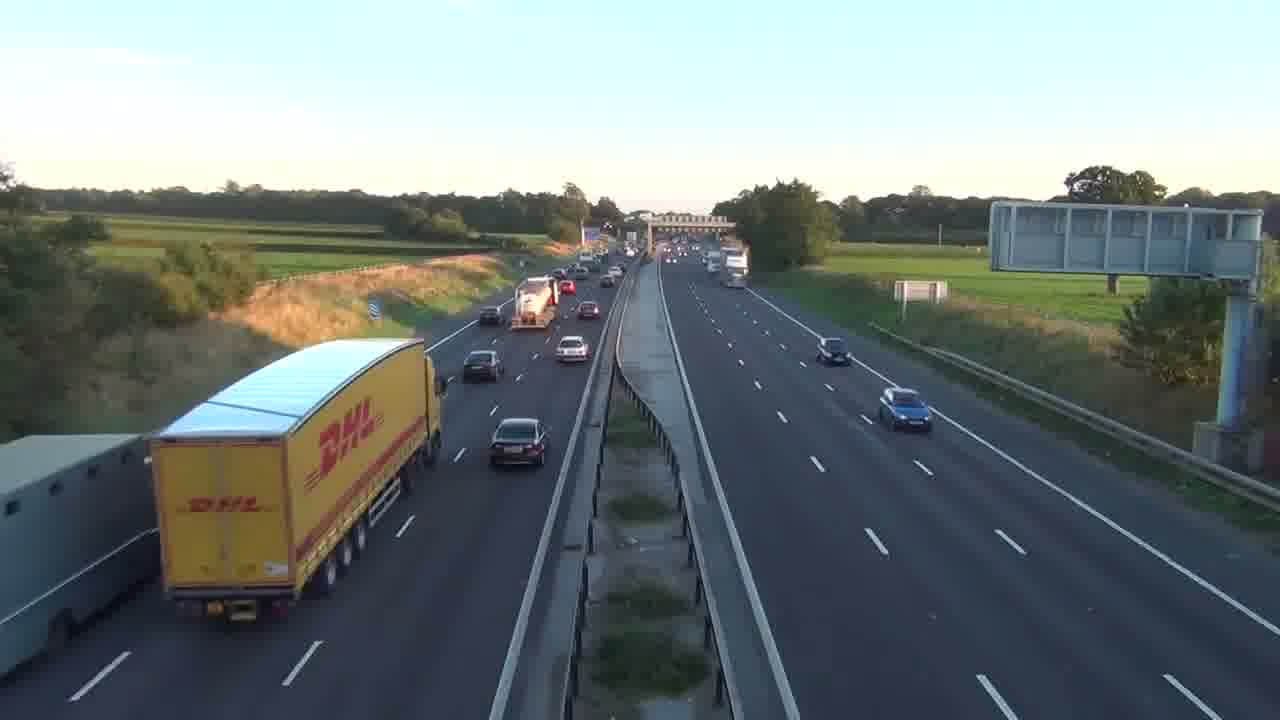car: (489, 416, 548, 470), (878, 387, 932, 433), (462, 349, 502, 383), (555, 334, 590, 365), (815, 337, 851, 366), (576, 301, 601, 319)
truck: (148, 334, 440, 625), (511, 277, 559, 331)
